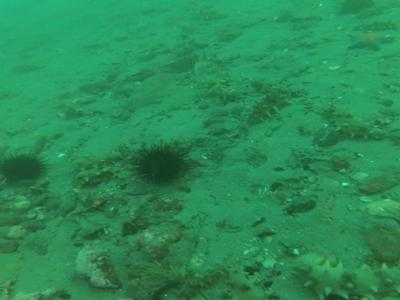holothurian: (294, 252, 395, 297), (321, 121, 387, 148), (238, 92, 288, 125), (75, 161, 120, 188)
urchin: (134, 144, 187, 187), (3, 153, 51, 185)
